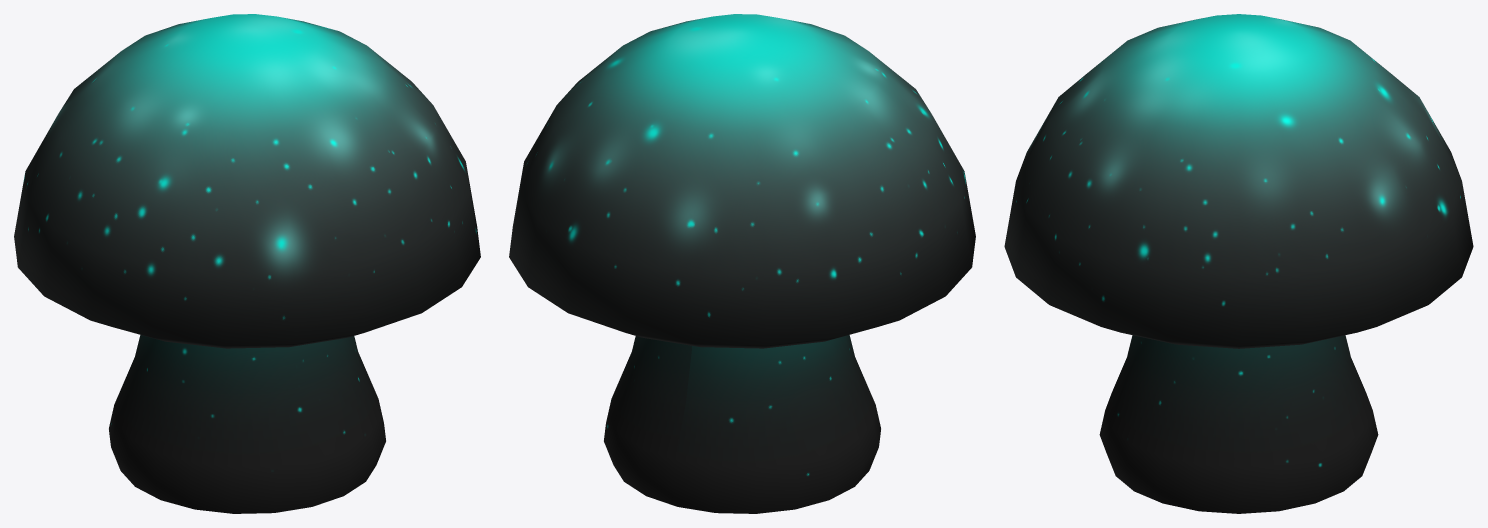
Rendered from mushroom.FBX.
The picture shows the model from 3 angles, left to right: view 1: azimuth 30°, elevation 25°; view 2: azimuth 150°, elevation 25°; view 3: azimuth 270°, elevation 25°; orthographic projection.
Parts seen in each view (by area): view 1: mushroom; view 2: mushroom; view 3: mushroom.
Boxes of the visible parts, x1,y1,x2,y2 form: mushroom: [14, 14, 480, 513]; mushroom: [509, 14, 975, 513]; mushroom: [1004, 14, 1473, 513].
Bounding box in the file's own units: 60 × 59.98 × 60.
Materials: 1 (1 with a texture image).
